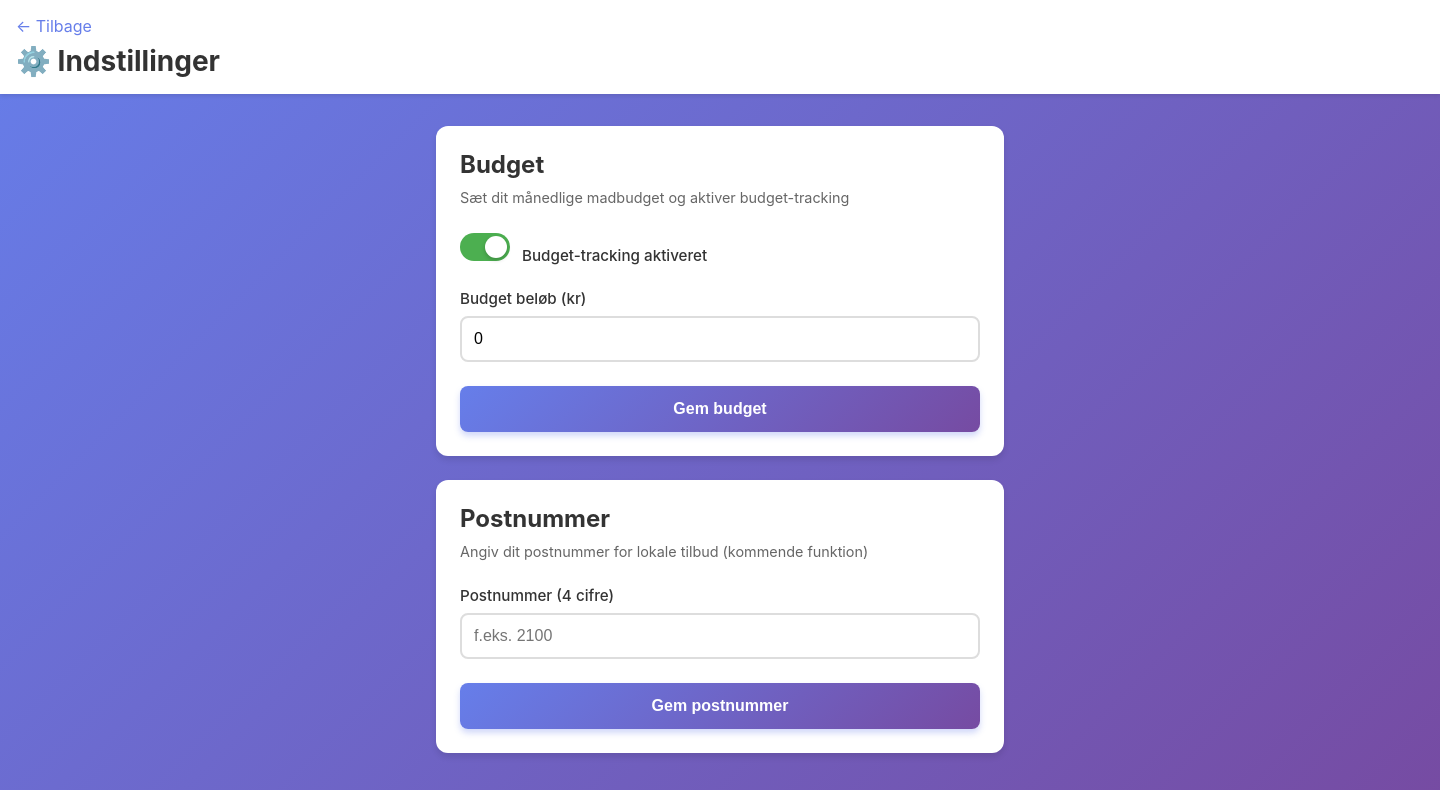
Scenario: Indstillinger Page › Budget Settings › validates budget input - non-number
This screenshot has width=1440, height=790.
Replace the text in the number field labelled "Budget beløb (kr)" with "abc" at coordinates (720, 339), box x1=460 y1=316 x2=980 y2=362
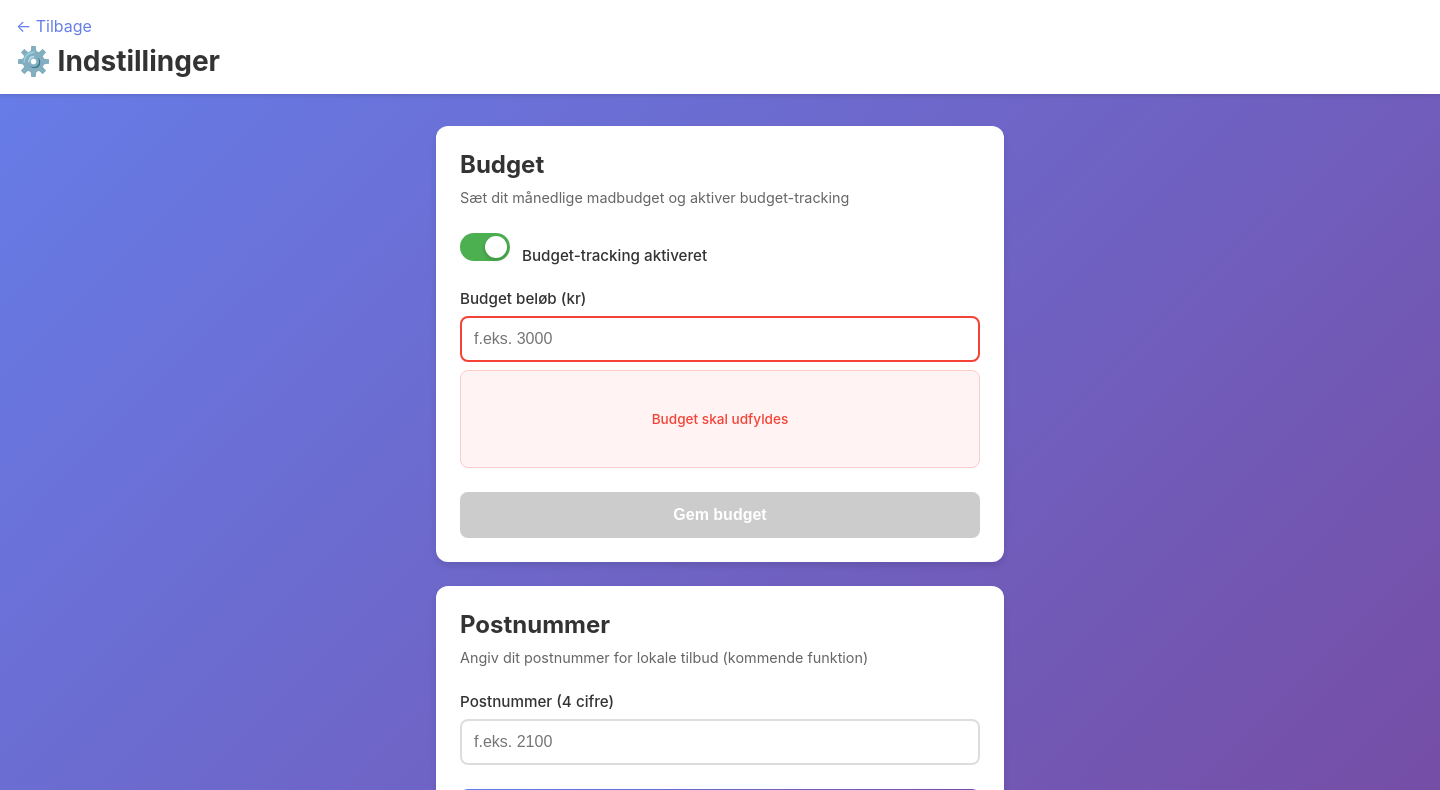
Now the number field labelled "Budget beløb (kr)" is empty, box x1=460 y1=316 x2=980 y2=362
Now the text "Budget skal udfyldes" is shown, box x1=460 y1=370 x2=980 y2=468
